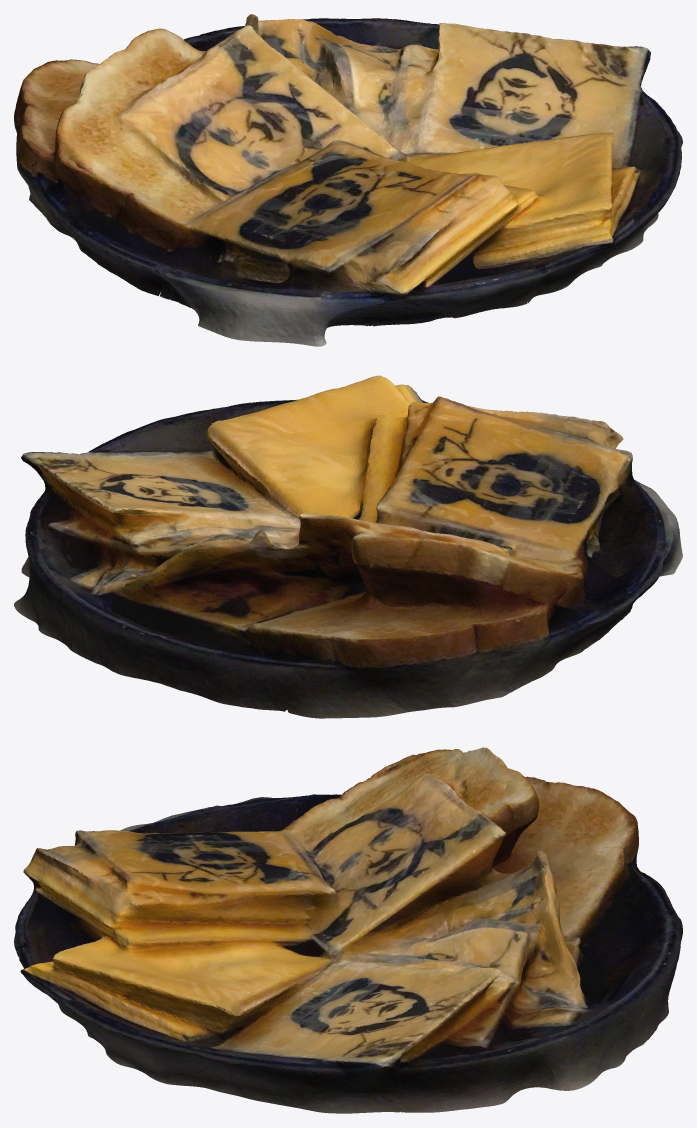
The model's file is Cheese okay-2048.glb.
3 views of the same model, one above another, from view 1: azimuth 30°, elevation 25°; view 2: azimuth 150°, elevation 25°; view 3: azimuth 270°, elevation 25° (orthographic). The views are drawn at different scales.
Size of the model in its own units: 0.4243 by 0.0927 by 0.4068.
Materials: 1 (1 with a texture image).
